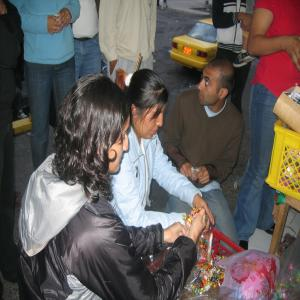Vehicle-registration-plate: (185, 49, 193, 57)
